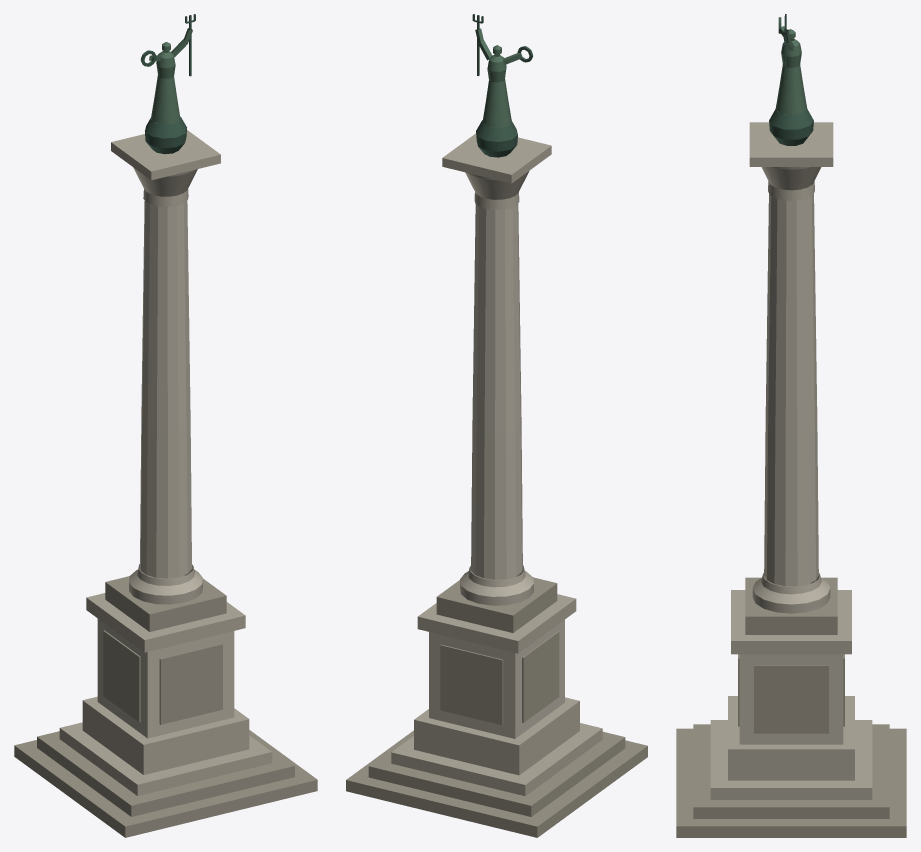
The model's file is union_square_dewey_monument.glb.
The picture shows the model from 3 angles, left to right: view 1: azimuth 30°, elevation 25°; view 2: azimuth 150°, elevation 25°; view 3: azimuth 270°, elevation 25°; orthographic projection. The views are drawn at different scales.
Parts seen in each view (by area): view 1: union_square_dewey_monument; view 2: union_square_dewey_monument; view 3: union_square_dewey_monument.
Part boxes in pixels (left/top/right/bottom): union_square_dewey_monument: left=14, top=14, right=317, bottom=837; union_square_dewey_monument: left=346, top=14, right=647, bottom=837; union_square_dewey_monument: left=676, top=14, right=906, bottom=837.
Bounding box in the file's own units: 8 × 30 × 8.
1 material, 1 textured.
